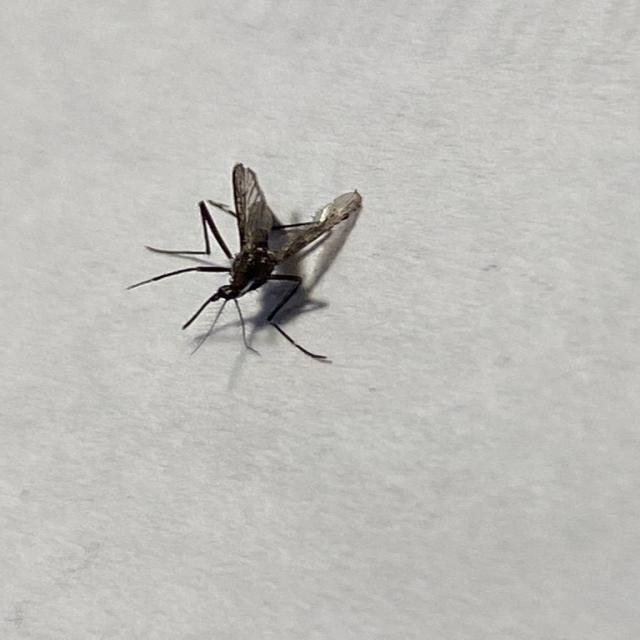albopictus: (123, 154, 366, 372)
